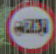Heavy Vehicles: (6, 0, 55, 48)
